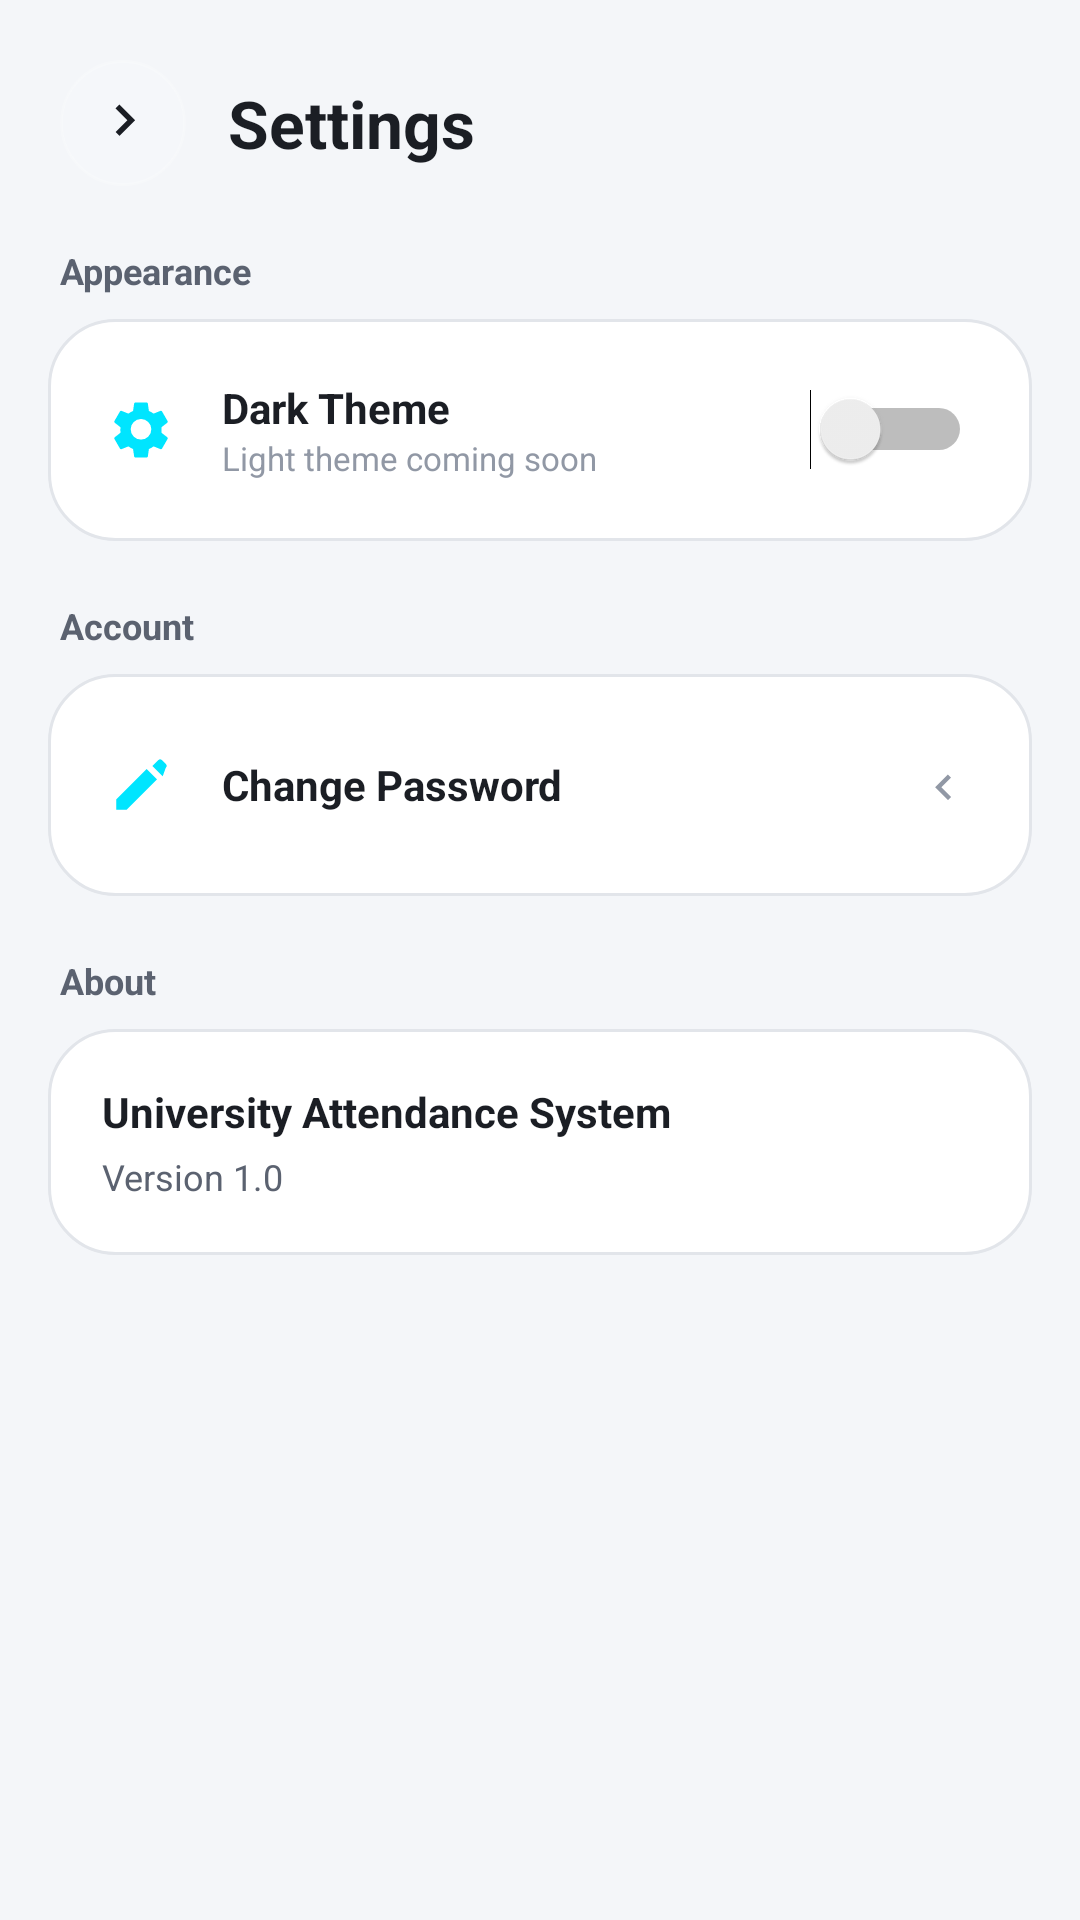

Where icons sit on this 1080px×1920px app screen, as detection(x1, y1, x2, y2):
edit: detection(116, 759, 167, 810)
settings: detection(114, 402, 168, 458)
